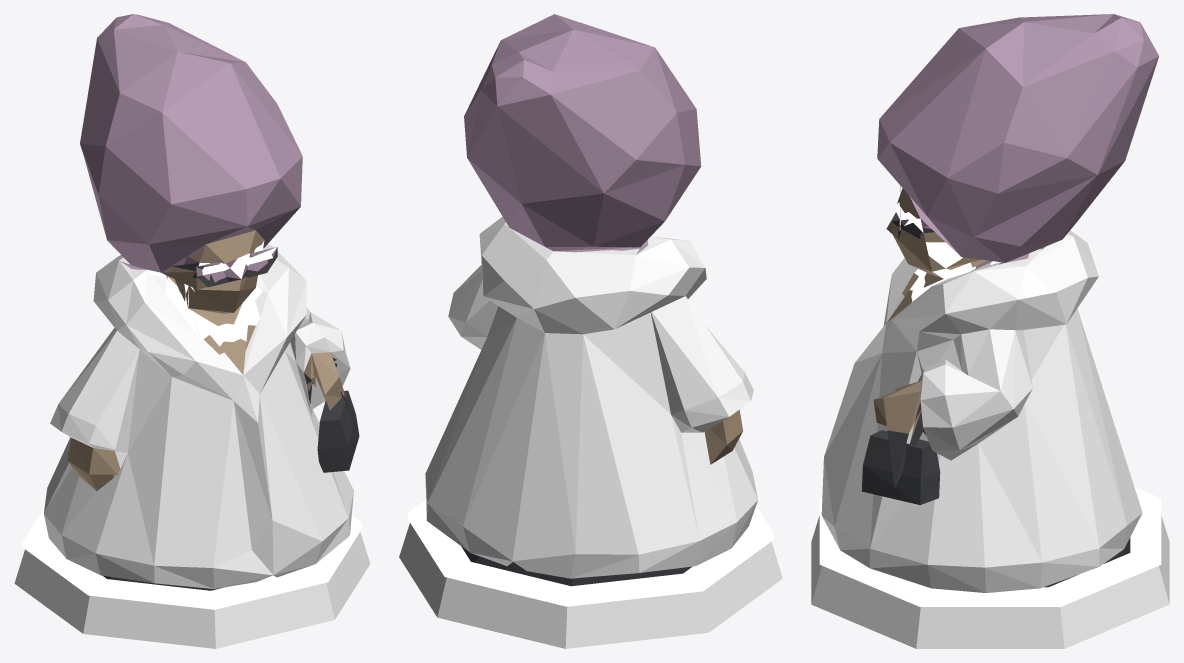
The model's file is le-sciure.glb.
The picture shows the model from 3 angles, left to right: view 1: azimuth 30°, elevation 25°; view 2: azimuth 150°, elevation 25°; view 3: azimuth 270°, elevation 25°; orthographic projection. The views are drawn at different scales.
Parts seen in each view (by area): view 1: pedina_sciure; view 2: pedina_sciure; view 3: pedina_sciure.
Boxes of the visible parts, x1=… form: pedina_sciure: x1=14, y1=14, x2=370, y2=648; pedina_sciure: x1=399, y1=14, x2=782, y2=648; pedina_sciure: x1=811, y1=14, x2=1169, y2=648.
Bounding box in the file's own units: 0.5913 × 1.01 × 0.5913.
